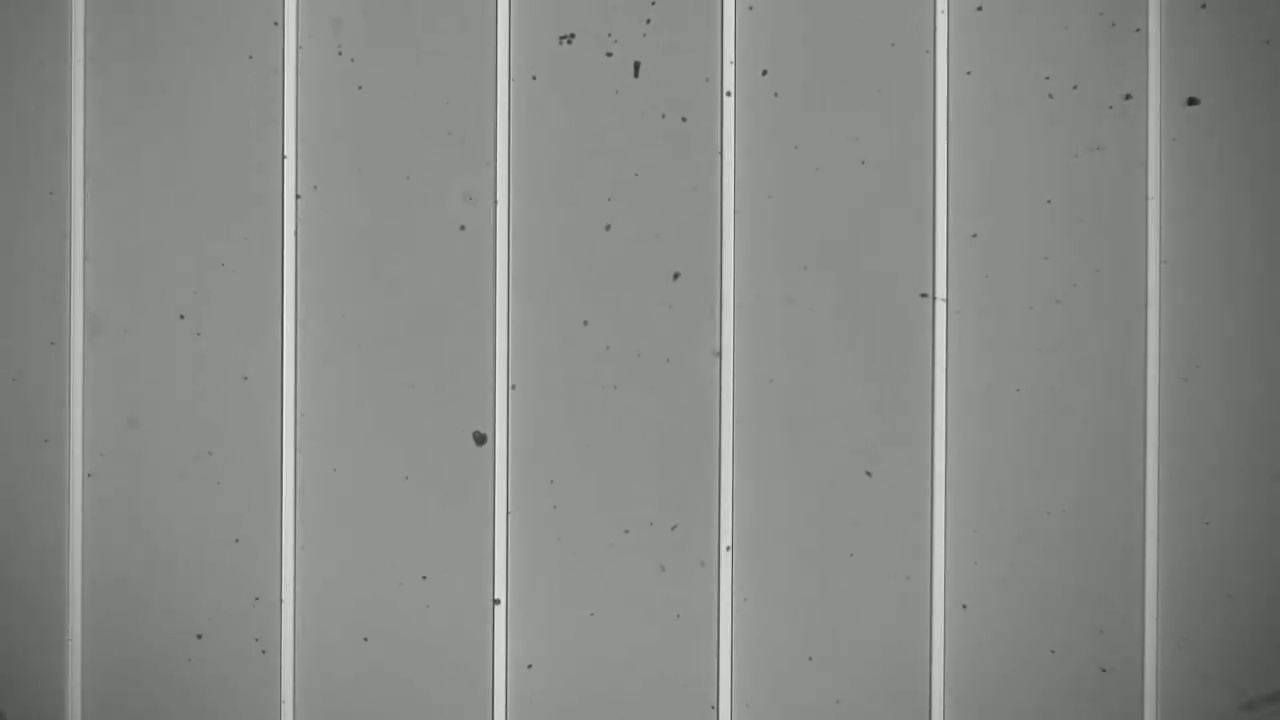stains_enbedded: (491, 595, 513, 614)
